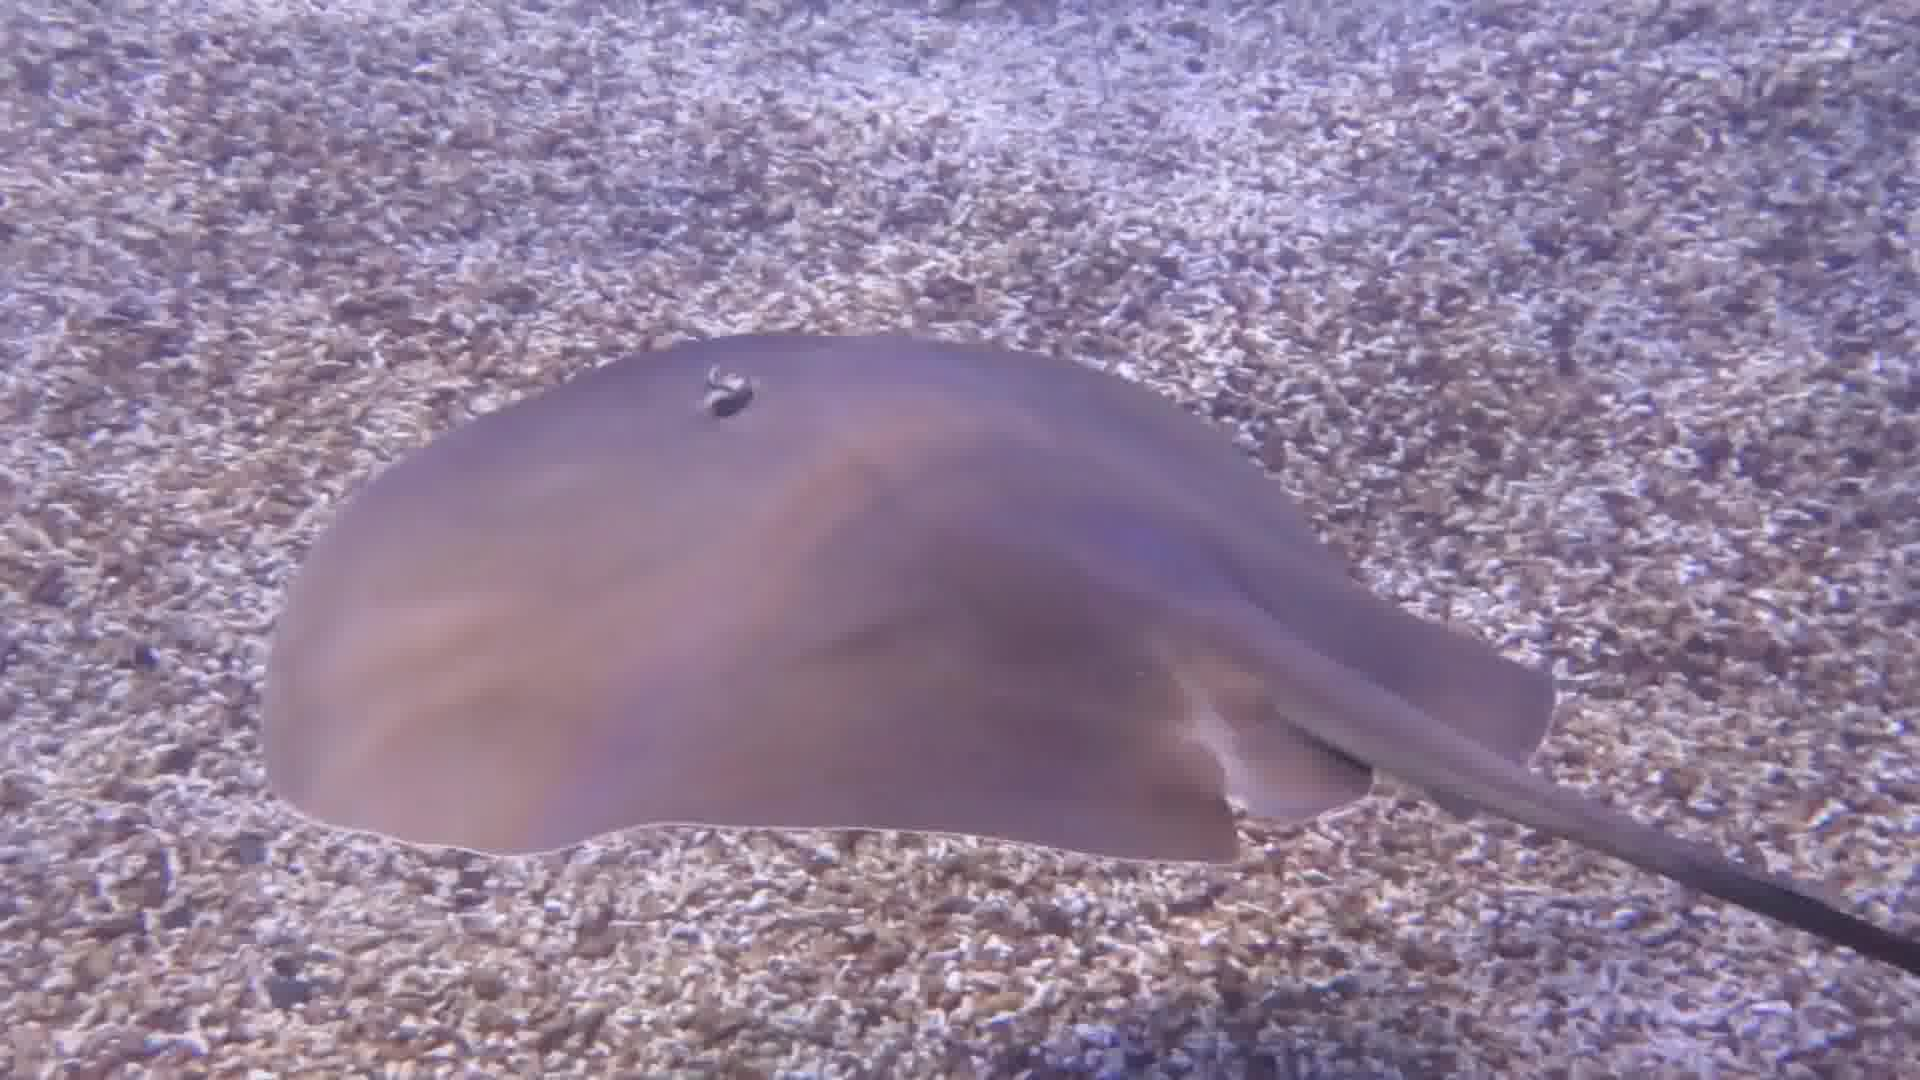Dasyatis akajei: (245, 313, 1920, 1022)
